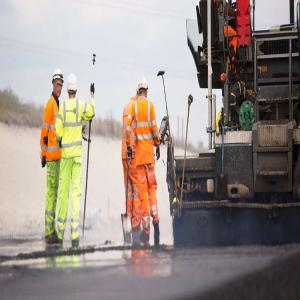white: (53, 68, 65, 98), (66, 73, 79, 98), (137, 75, 149, 100)
